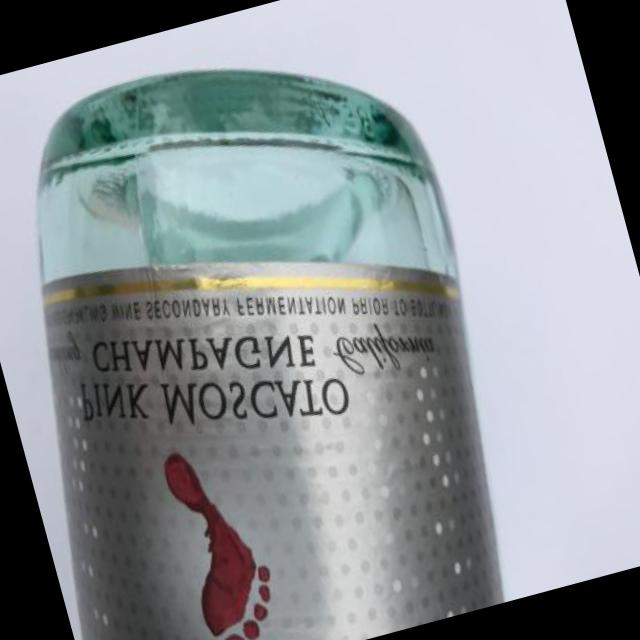bottle: (38, 71, 501, 639)
